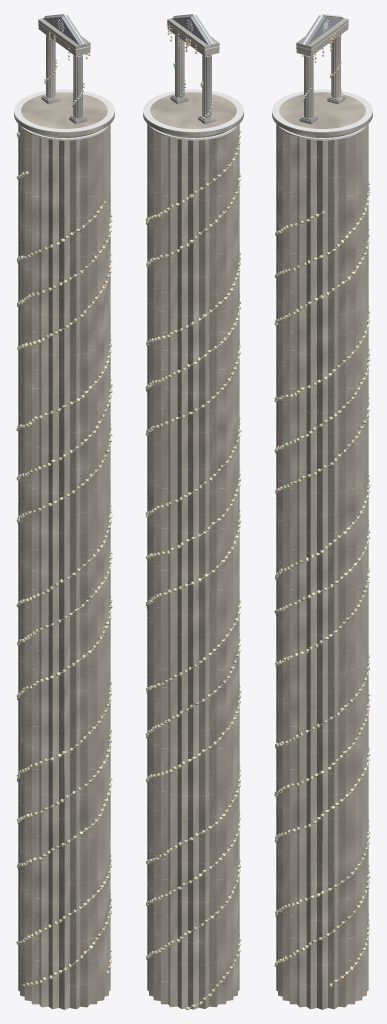
File: SM_Sky_F.fbx
3 views of the same model, side by side, from view 1: azimuth 30°, elevation 25°; view 2: azimuth 210°, elevation 25°; view 3: azimuth 330°, elevation 25° (orthographic).
Parts seen in each view (by area): view 1: SM_Sky_F; view 2: SM_Sky_F; view 3: SM_Sky_F.
Boxes of the visible parts, x1=… form: SM_Sky_F: x1=14, y1=14, x2=114, y2=1009; SM_Sky_F: x1=143, y1=14, x2=243, y2=1009; SM_Sky_F: x1=272, y1=14, x2=372, y2=1009.
Bounding box in the file's own units: 920 × 9825 × 920.
